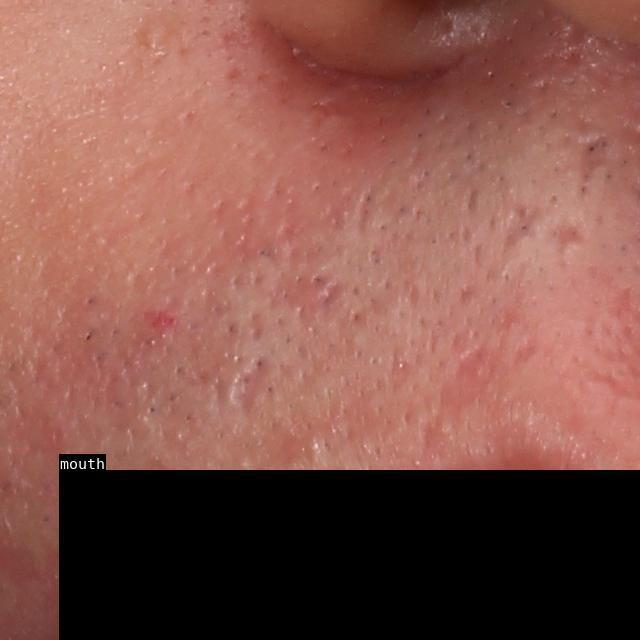atrophic_scar: (418, 343, 539, 456), (501, 205, 546, 264), (579, 132, 614, 197), (229, 356, 263, 421), (557, 219, 585, 264), (355, 184, 375, 238)
